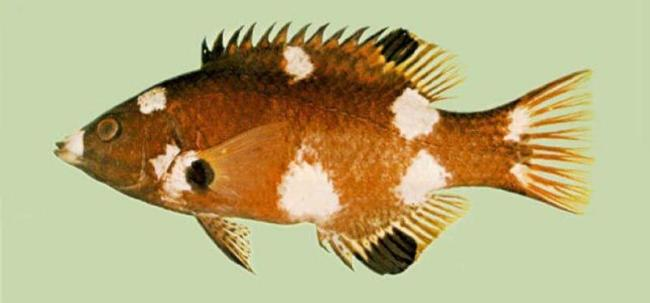fish: (53, 23, 600, 276)
